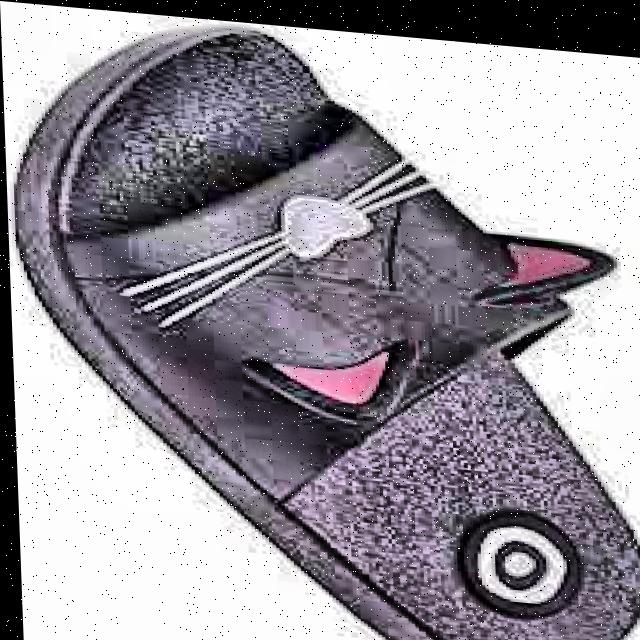shoes: (21, 5, 640, 640)
